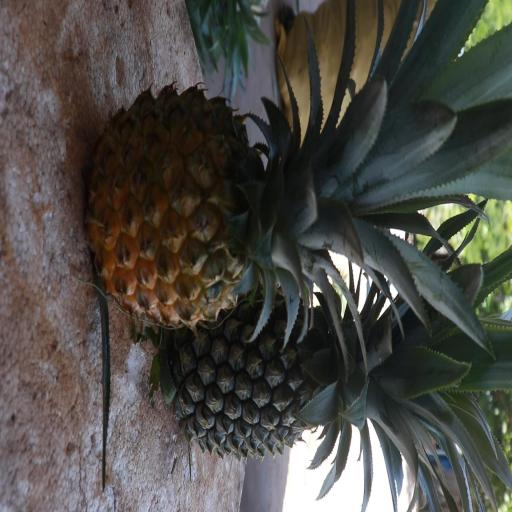Pineapple - v8 v1: (91, 87, 454, 334)
